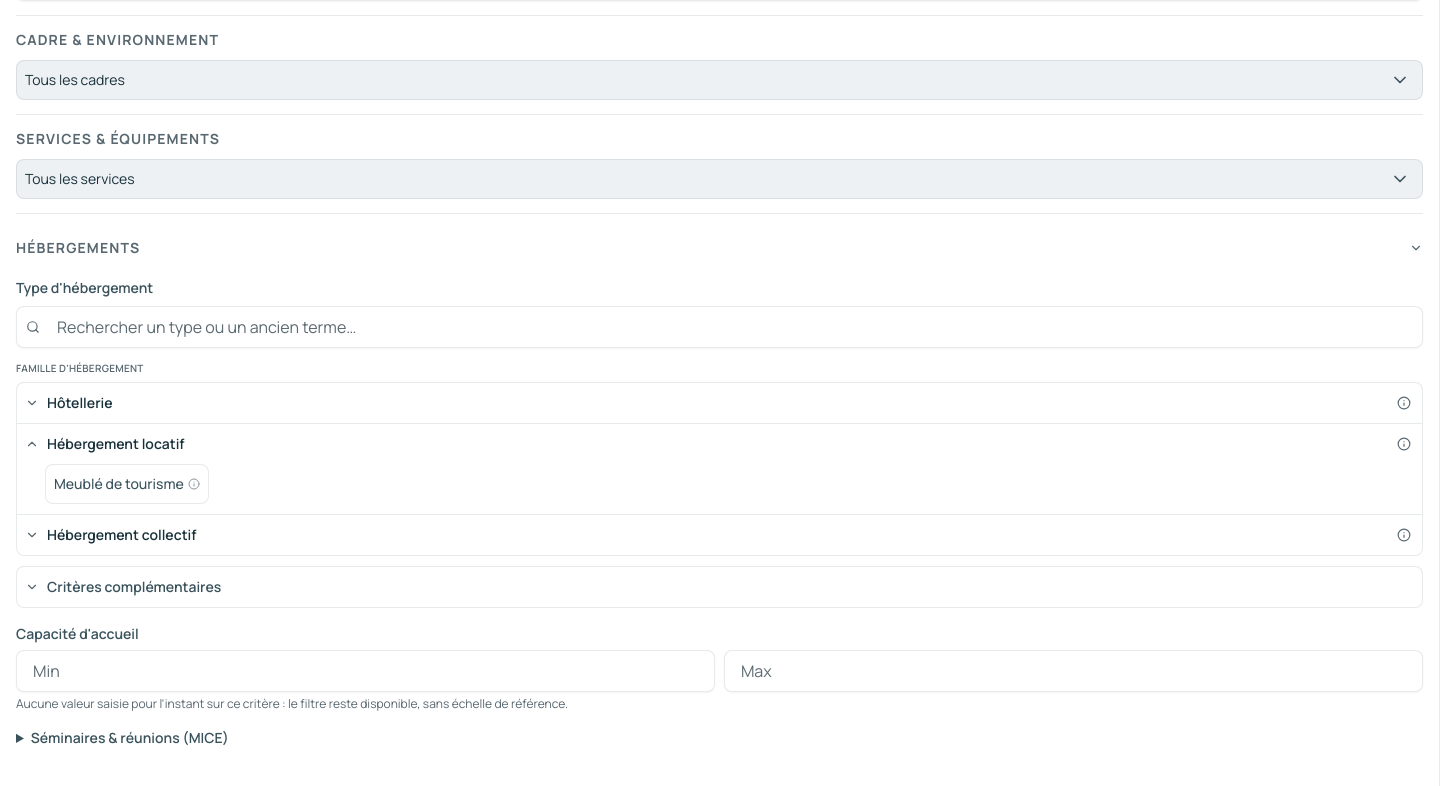
Scenario: FiltersPanel — sections type-spécifiques repliables › affiche le nouveau modèle sémantique sous forme compacte et progressive
(page scrolled)
Expected: the text "Type d'hébergement" is shown, [16,278,153,297]
Expected: the text "Famille d'hébergement" is shown, [16,361,144,375]
Click the button "Meublé de tourisme" at (127, 484), box [45,464,209,504]
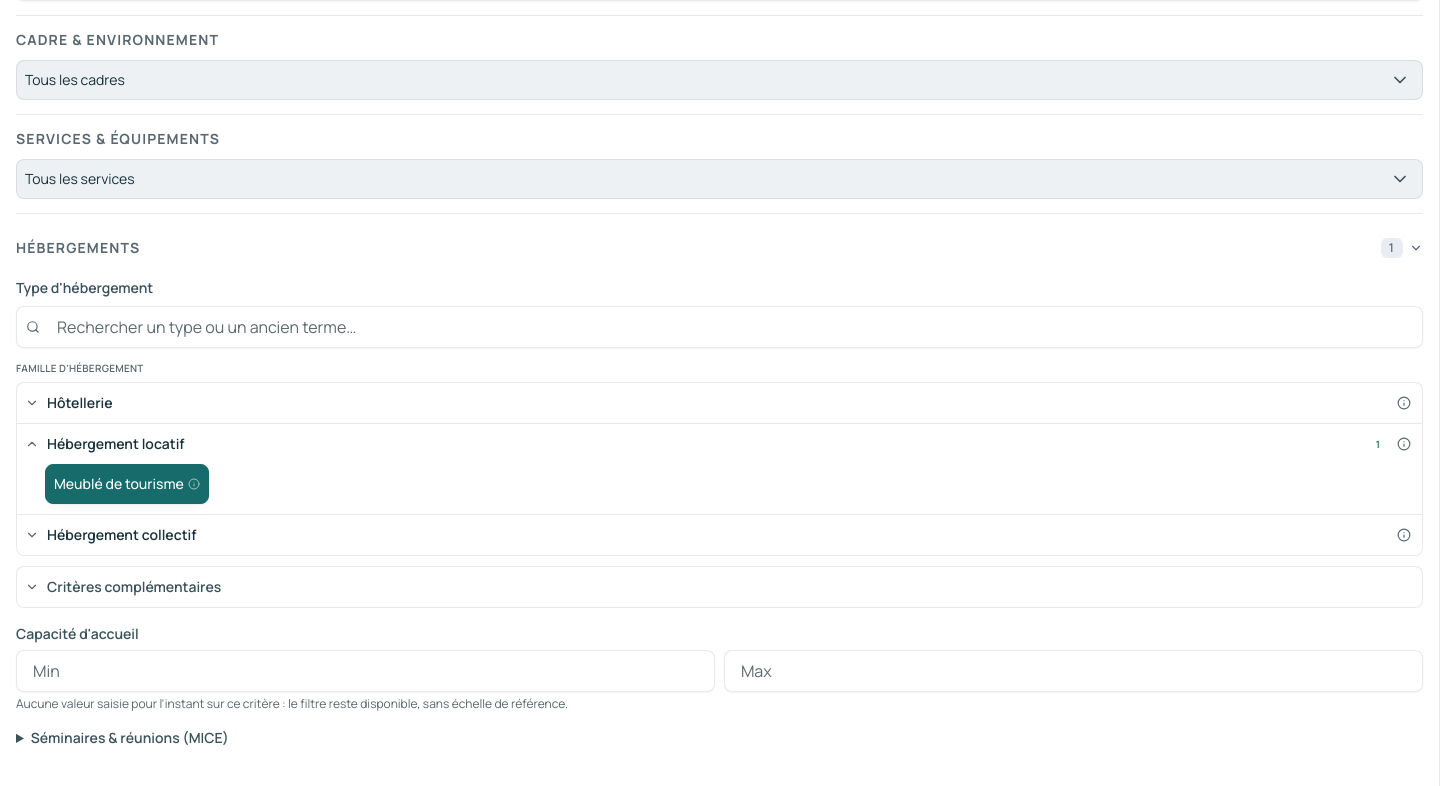
Click the button "Hébergement locatif 1" at (116, 444), box [17,424,1422,464]
(page scrolled)
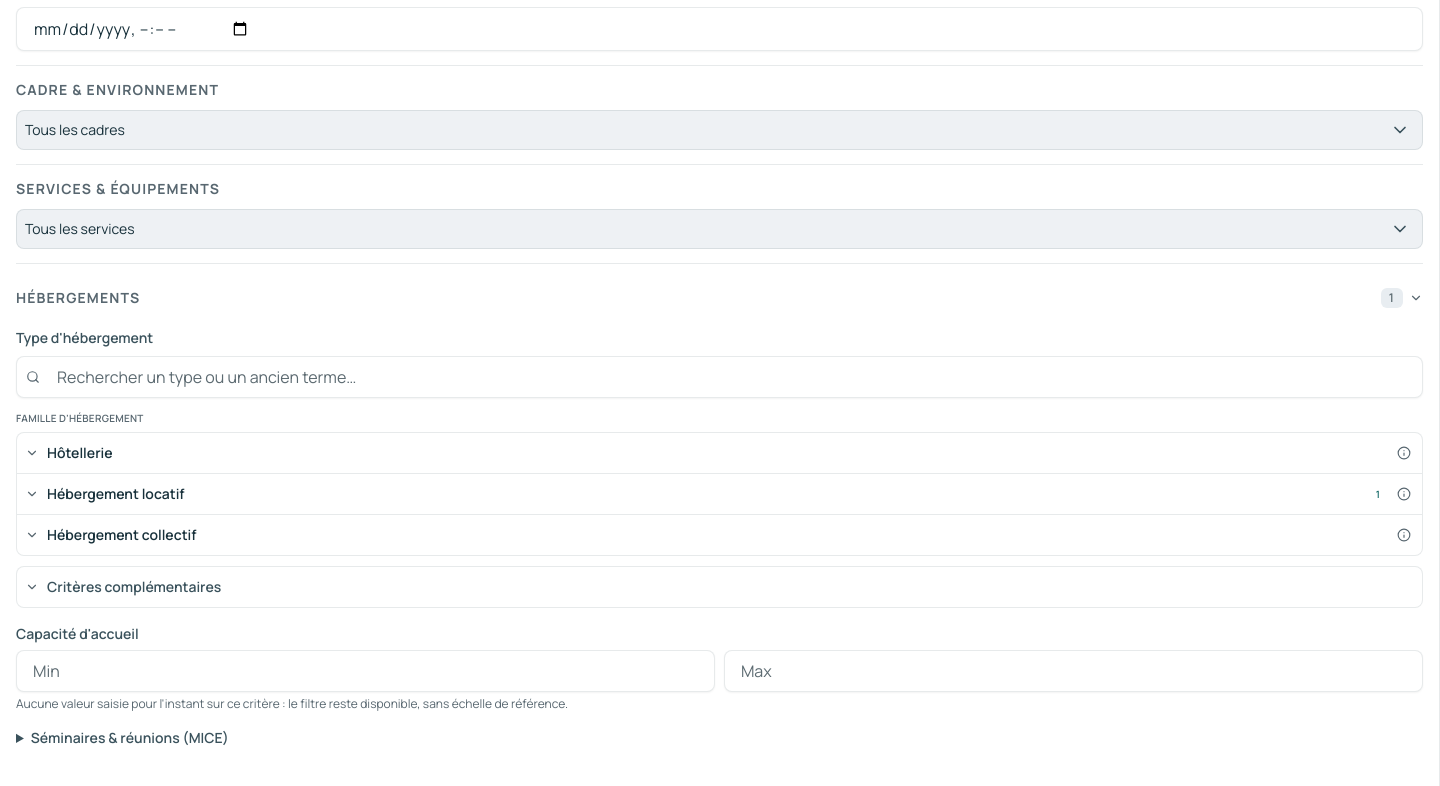
Result: the button "Hébergement locatif 1" is shown at [17,474,1422,514]
Result: the button "Meublé de tourisme" is gone
